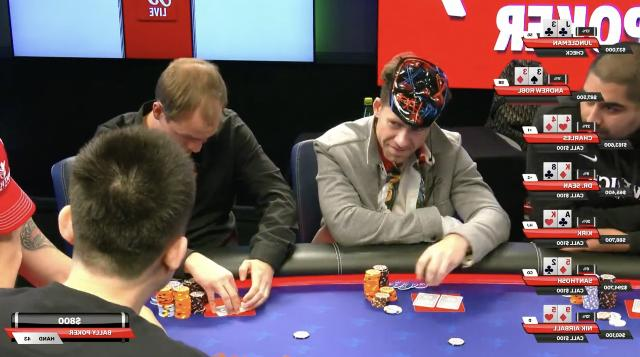2C: (542, 258, 558, 276)
3C: (542, 20, 556, 36)
3D: (515, 68, 529, 84)
3S: (529, 67, 543, 87)
4D: (545, 114, 557, 132)
4H: (557, 114, 571, 132)
5D: (558, 258, 570, 276)
5H: (543, 304, 557, 324)
8C: (543, 162, 559, 180)
9D: (557, 304, 571, 324)
AC: (558, 210, 572, 229)
JC: (558, 19, 572, 37)
KD: (559, 163, 571, 181)
KH: (542, 210, 558, 228)
